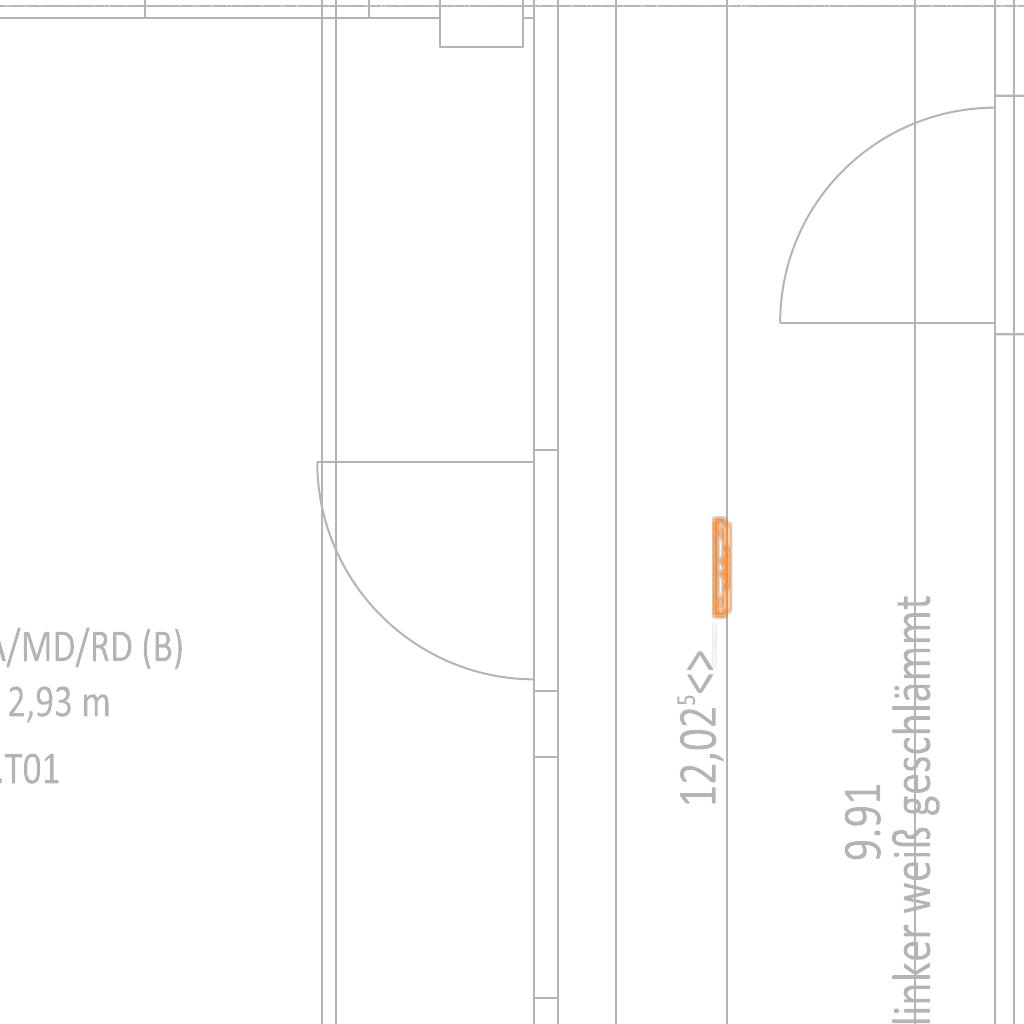Sicherheitsleuchte_Wandeinbau: (710, 513, 735, 672)
